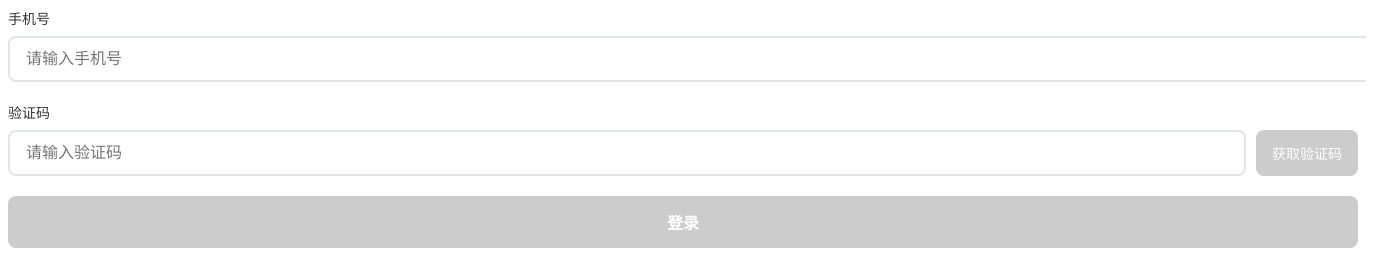
Test: UI-LoginForm acceptance › 点击获取验证码后启动60秒倒计时并禁用按钮
Step 1. Type "13800000000" into the field named "phone" → (687, 59), box [8,36,1366,82]
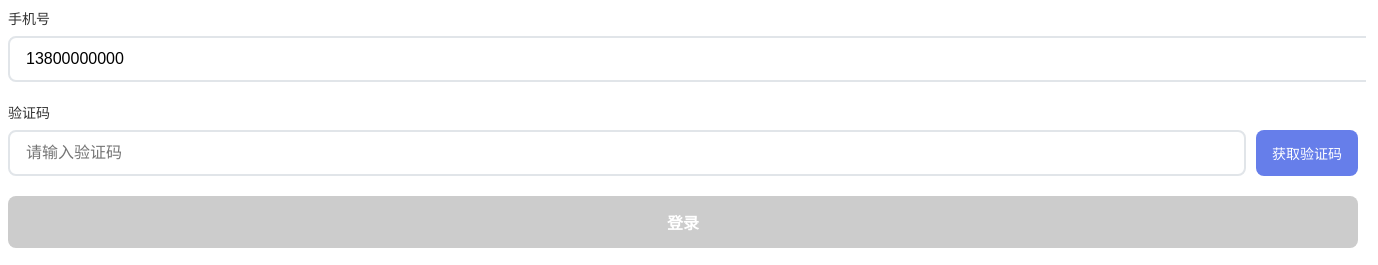
Step 2. Click the button "获取验证码" → (1307, 153), box [1256,130,1358,176]
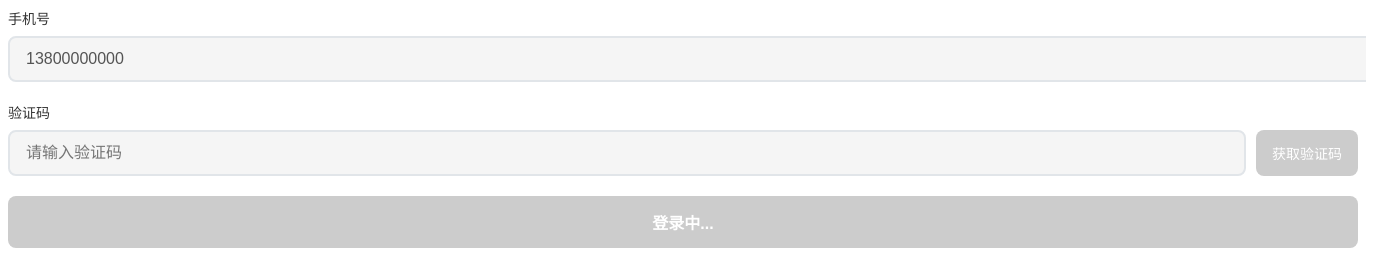
Expected: the button "获取验证码" is disabled, [1256,130,1358,176]
